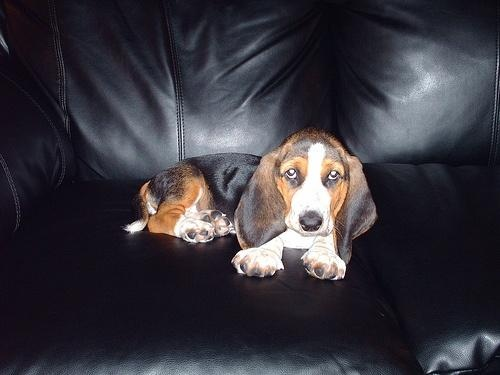dog: (124, 126, 380, 284)
sofa: (4, 4, 499, 371)
